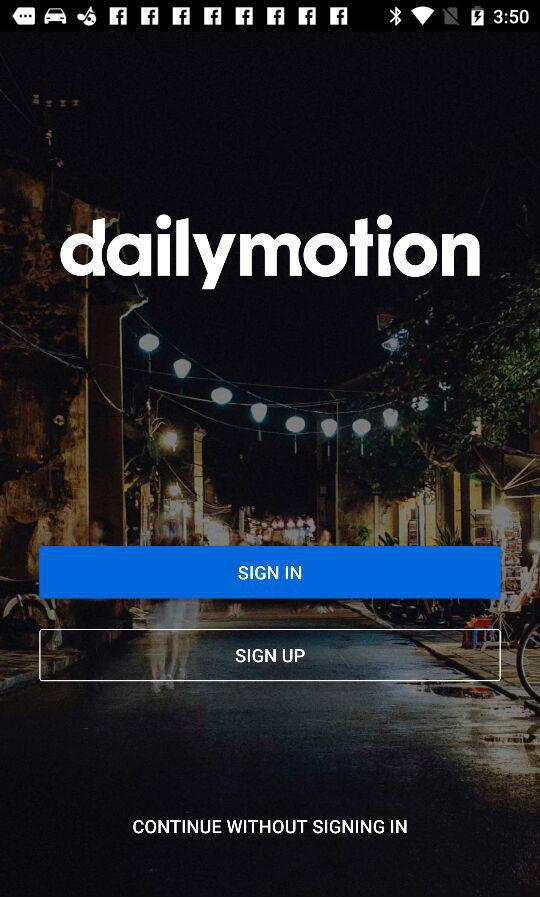BackgroundImage: (1, 28, 540, 897)
Image: (60, 214, 481, 291)
Text: (133, 819, 408, 835)
TextButton: (39, 546, 502, 600), (39, 629, 501, 682)
UpperTaskBar: (1, 1, 540, 28)
